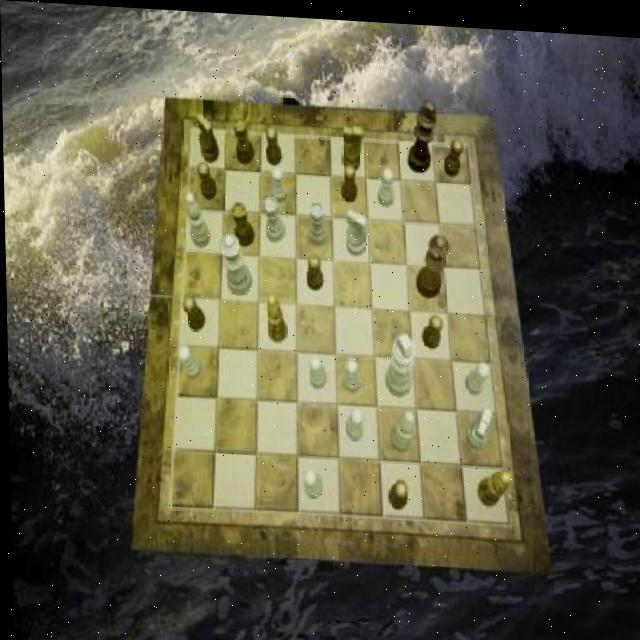bishop: (475, 464, 509, 503), (265, 289, 286, 339)
black-bishop: (406, 94, 437, 170)
black-king: (196, 111, 219, 161), (342, 122, 363, 169)
black-knight: (182, 293, 205, 329), (443, 133, 464, 172), (197, 158, 217, 197), (421, 309, 442, 344), (386, 475, 407, 507), (265, 123, 282, 162), (341, 161, 358, 199), (304, 251, 322, 286)
black-pawn: (415, 230, 449, 295)
black-queen: (231, 198, 255, 245), (233, 114, 254, 162)
black-rook: (185, 190, 210, 246), (389, 406, 414, 449)
white-bishop: (384, 328, 416, 394)
white-king: (464, 400, 491, 443), (345, 205, 367, 252)
white-knight: (176, 343, 201, 379), (463, 354, 488, 389), (377, 164, 394, 203), (341, 354, 359, 390), (270, 163, 288, 199), (344, 403, 362, 438), (308, 351, 326, 386), (302, 464, 321, 496)
white-pawn: (219, 230, 253, 293)
white-queen: (263, 192, 284, 239), (306, 197, 327, 244)
